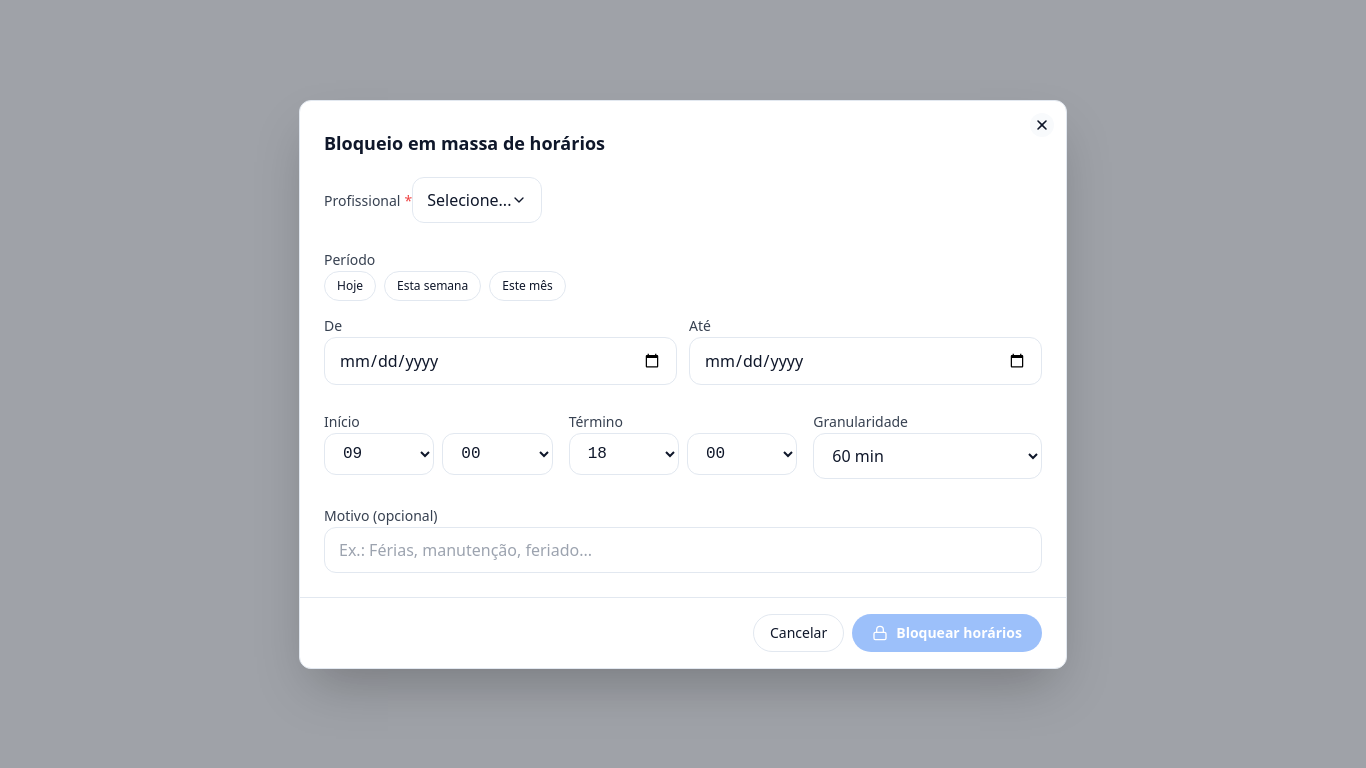
Scenario: SlotBulkBlockModal › mostra o resultado (blocked/created/skipped_booked) ao final
This screenshot has width=1366, height=768.
Click the button "Selecione..." at (477, 200), box [412,176,542,222]
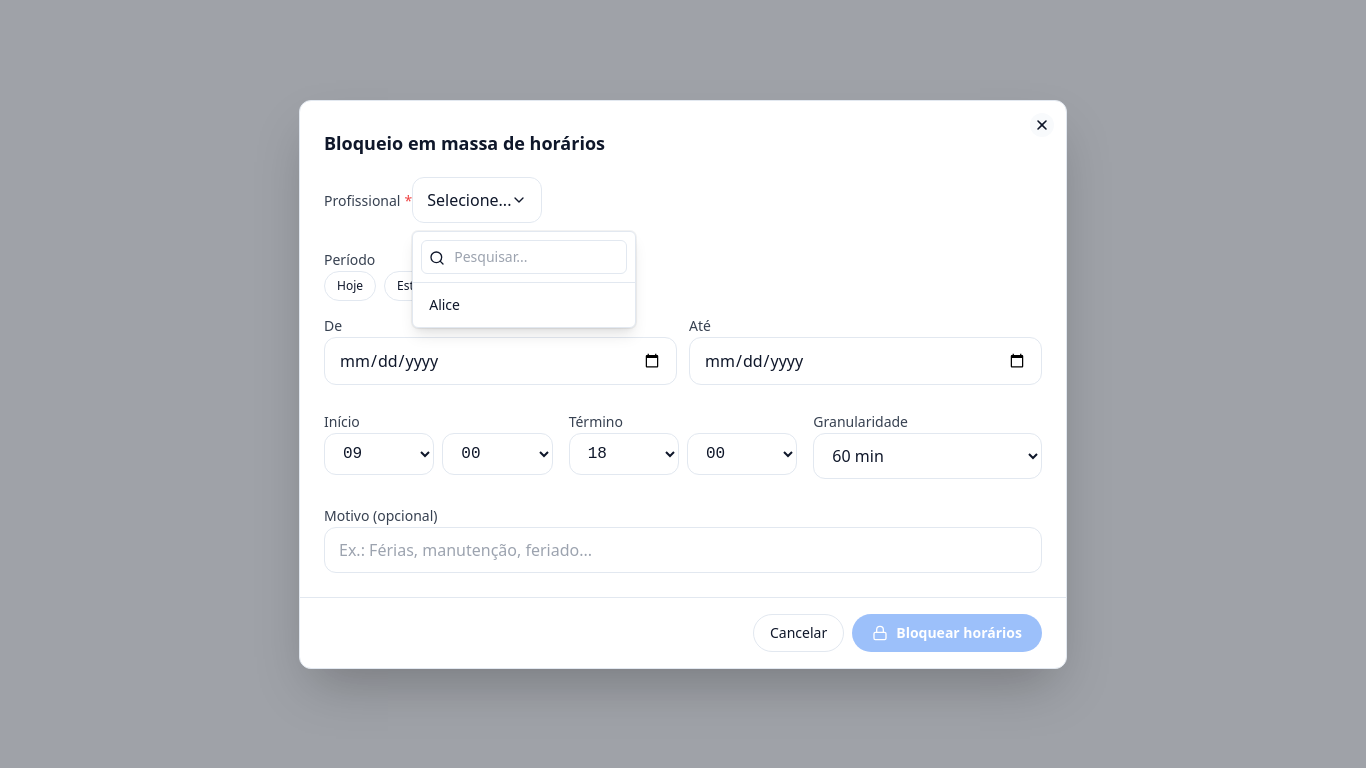
Click the button "Alice" at (524, 304), box [413,286,635,322]
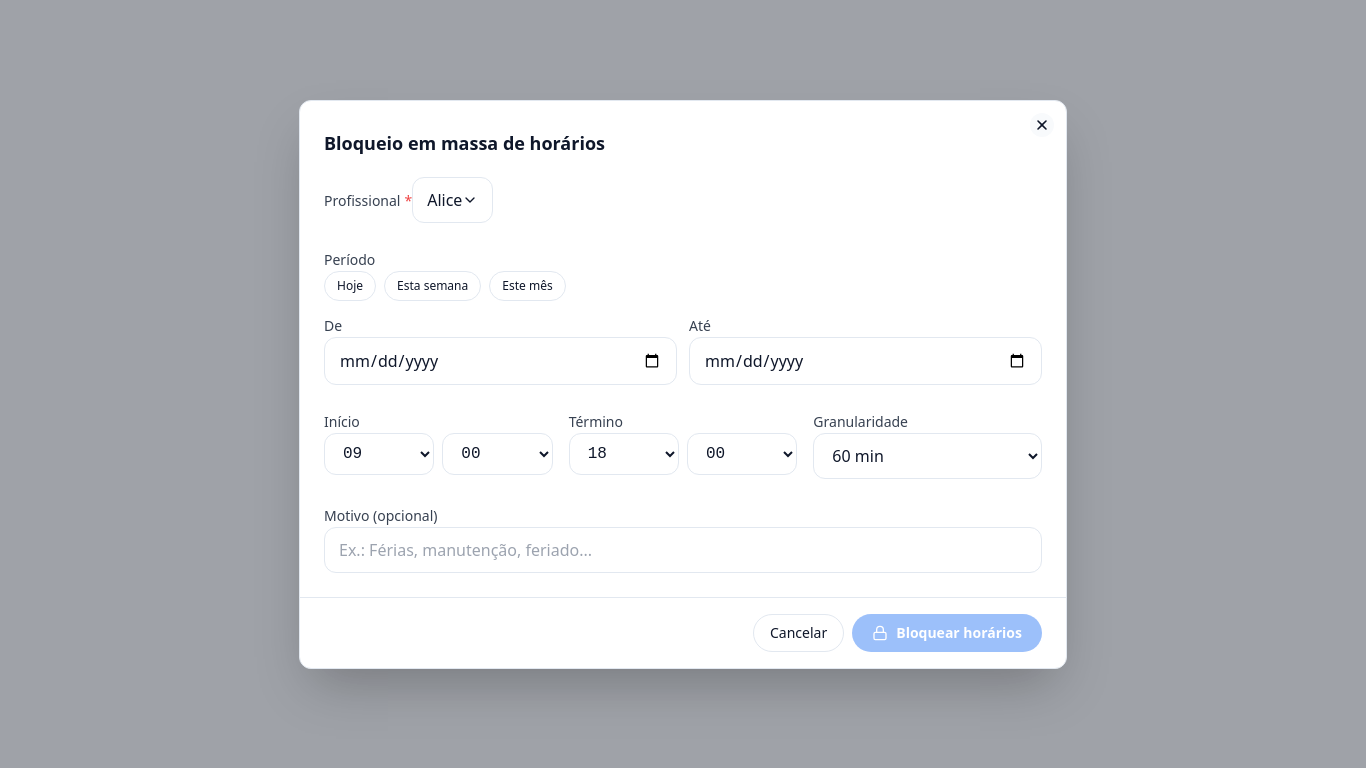
Type "2026-08-01" into the 1st date field at (500, 360), box [324,336,677,384]
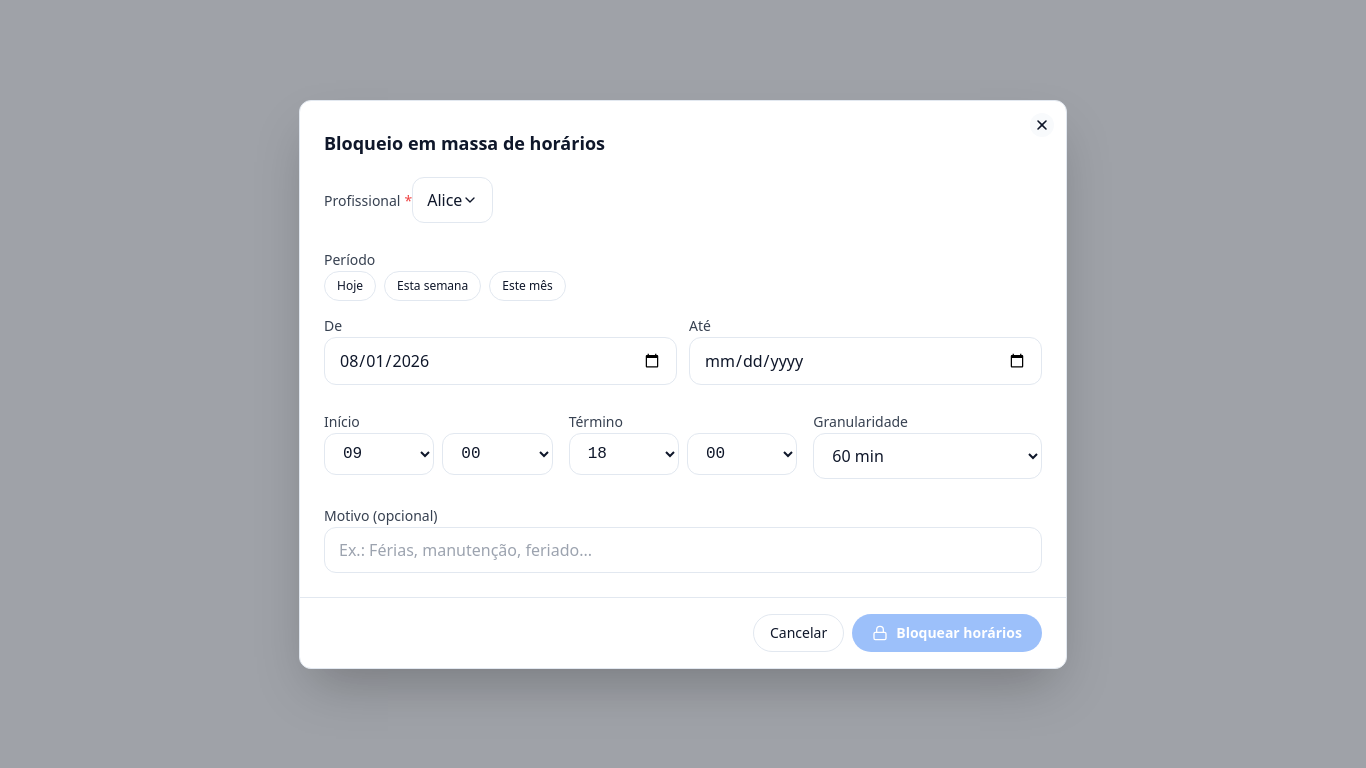
Type "2026-08-07" into the date field below "Até" at (866, 360), box [689,336,1042,384]
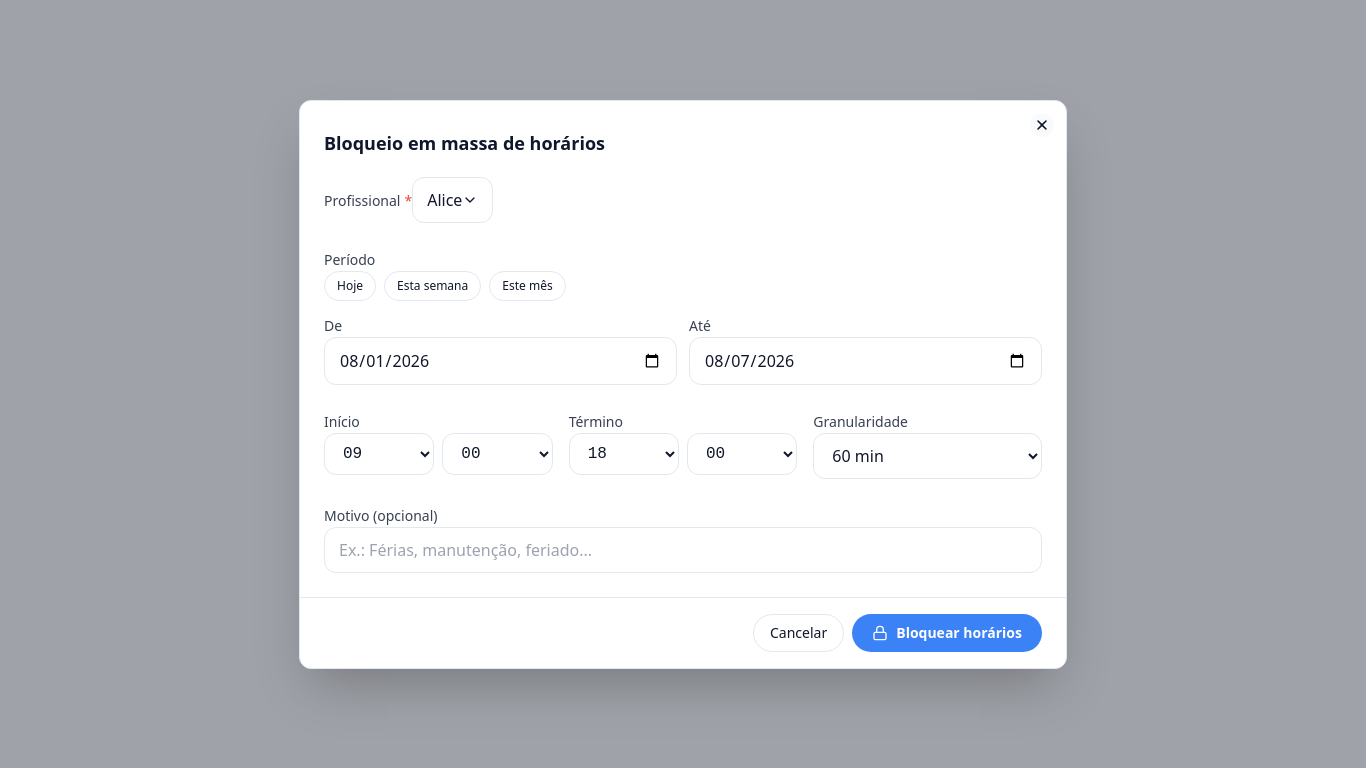
Click the button "Bloquear horários" at (947, 632), box [852,614,1042,652]
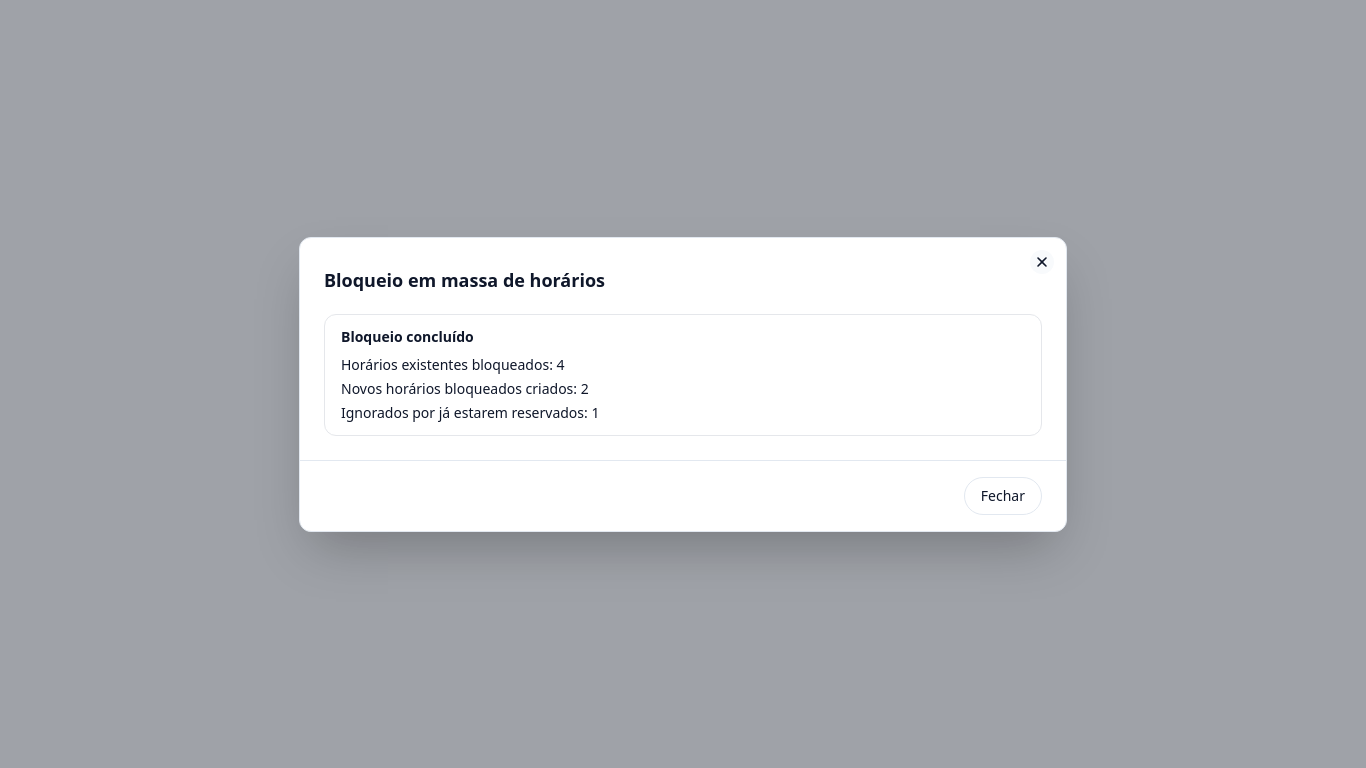
Result: the text "Bloqueio concluído" is shown at [341,326,474,346]
Result: the list item "Horários existentes bloqueados: 4" is shown at [341,354,564,374]
Result: the list item "Novos horários bloqueados criados: 2" is shown at [341,378,589,398]
